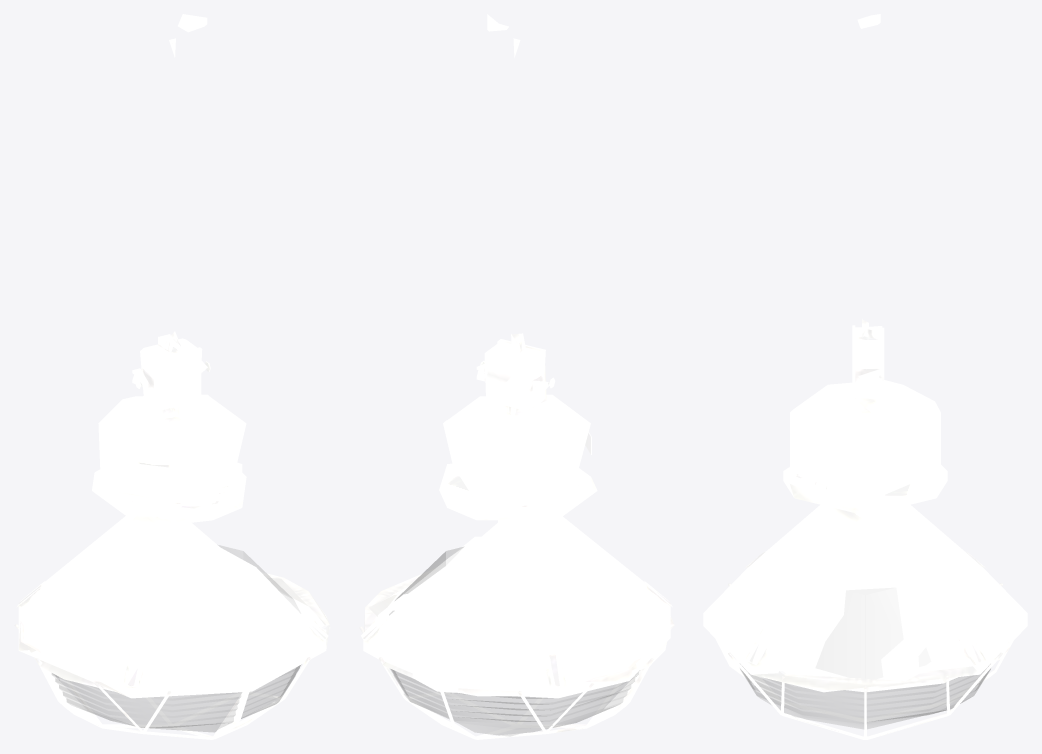
The model's file is hanging_industrial_lamp.glb.
The picture shows the model from 3 angles, left to right: view 1: azimuth 30°, elevation 25°; view 2: azimuth 150°, elevation 25°; view 3: azimuth 270°, elevation 25°; orthographic projection.
Parts seen in each view (by area): view 1: hanging_industrial_lamp; view 2: hanging_industrial_lamp; view 3: hanging_industrial_lamp.
Part boxes in pixels (x1,y1,x2,y2): hanging_industrial_lamp: [14, 14, 330, 739]; hanging_industrial_lamp: [359, 14, 674, 739]; hanging_industrial_lamp: [703, 14, 1027, 739].
Size of the model in its own units: 0.5428 by 1.34 by 0.5497.
Materials: 2 (1 with a texture image).
